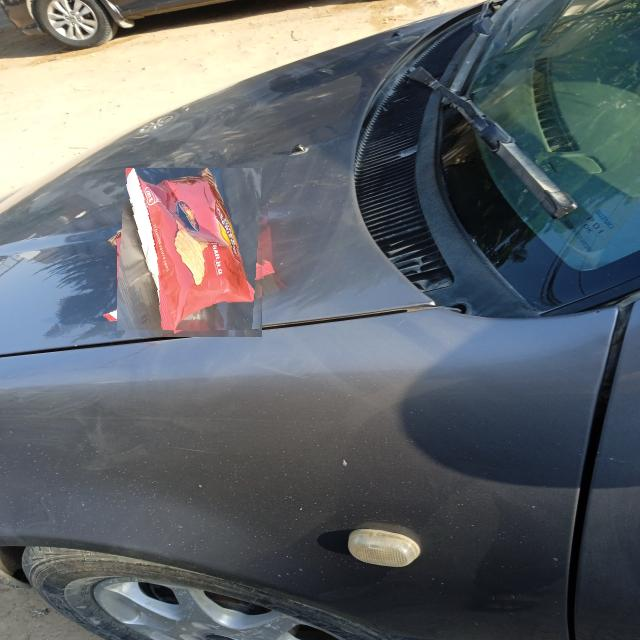Plastic: (117, 176, 270, 330)
